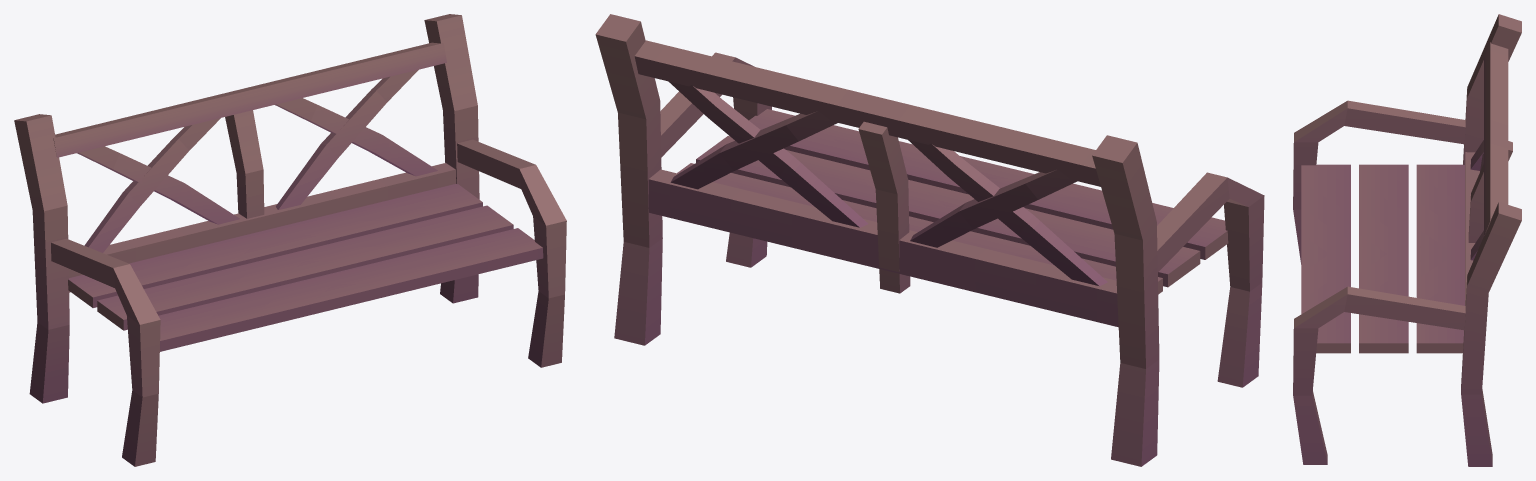
Rendered from chair_2.gltf.
3 views of the same model, side by side, from view 1: azimuth 30°, elevation 25°; view 2: azimuth 150°, elevation 25°; view 3: azimuth 270°, elevation 25° (orthographic). The views are drawn at different scales.
Visible parts, largest first — view 1: Object_27; view 2: Object_27; view 3: Object_27.
Part boxes in pixels (bbox=[...]): Object_27: bbox=[14, 14, 566, 466]; Object_27: bbox=[595, 14, 1264, 466]; Object_27: bbox=[1293, 14, 1521, 466].
Bounding box in the file's own units: 5.53 × 3.28 × 2.68.
Materials: 1 (1 with a texture image).
